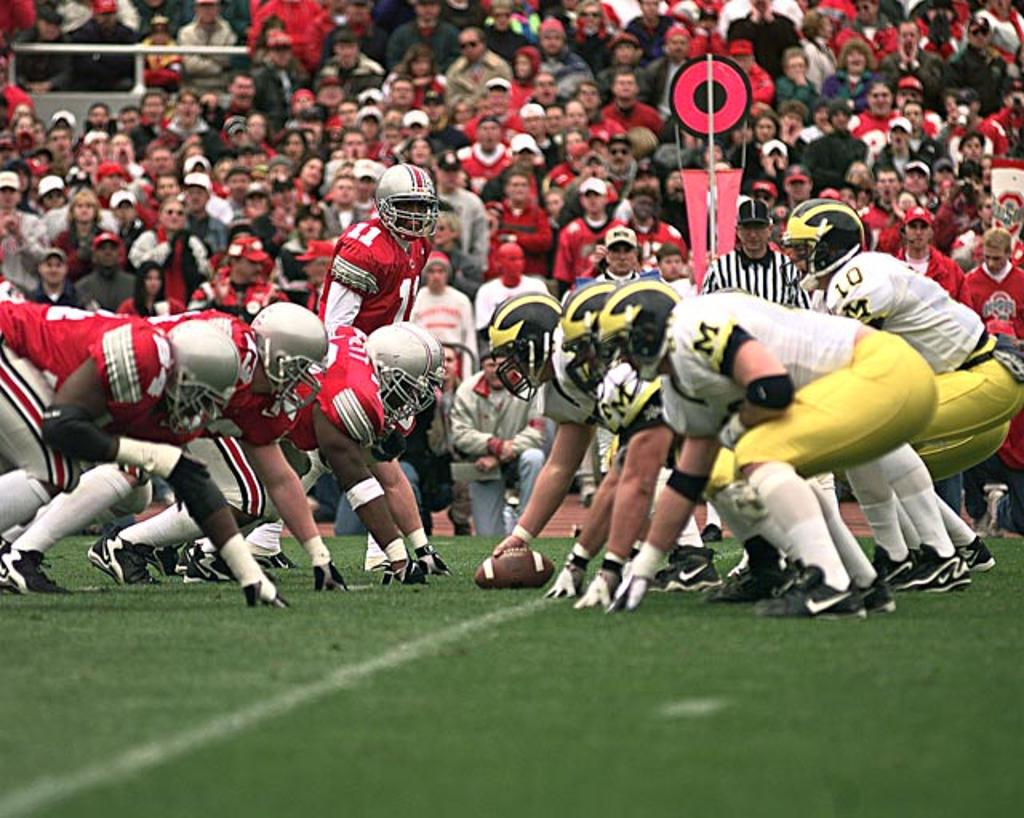face: (615, 334, 654, 381), (393, 198, 430, 240), (571, 333, 604, 380), (385, 368, 417, 413), (505, 348, 539, 387), (789, 233, 818, 273), (609, 245, 637, 277), (238, 251, 264, 284), (740, 218, 766, 250), (460, 34, 486, 64), (484, 358, 509, 389), (907, 216, 931, 247), (303, 255, 327, 284), (435, 349, 456, 381), (96, 241, 119, 269), (870, 85, 893, 113), (97, 244, 120, 272), (233, 78, 254, 107), (38, 18, 63, 42), (299, 212, 322, 238), (984, 247, 1006, 274), (480, 123, 502, 150), (898, 87, 922, 111), (632, 197, 656, 221), (846, 46, 867, 73), (320, 83, 343, 107), (43, 259, 65, 284), (187, 186, 208, 211), (164, 205, 185, 230), (766, 148, 786, 174), (302, 160, 322, 186), (145, 270, 164, 297), (788, 175, 810, 198), (181, 97, 199, 125), (580, 87, 601, 111), (756, 119, 777, 143), (428, 267, 448, 292), (158, 178, 178, 203), (426, 97, 446, 122), (906, 171, 926, 196), (247, 189, 267, 214), (113, 139, 133, 164), (878, 175, 898, 200), (536, 77, 554, 104), (517, 142, 535, 169), (410, 56, 432, 78), (662, 258, 684, 280), (616, 75, 636, 99), (346, 135, 366, 159), (338, 42, 358, 66), (971, 24, 991, 48), (523, 114, 543, 137), (393, 82, 412, 106), (668, 174, 687, 198), (636, 174, 660, 193), (33, 155, 52, 179), (590, 140, 609, 164), (611, 144, 629, 169), (784, 113, 802, 138), (753, 190, 774, 211), (153, 153, 173, 175), (45, 189, 65, 211), (274, 45, 294, 67), (616, 43, 636, 65), (349, 6, 369, 28), (505, 254, 524, 277), (411, 142, 430, 165), (295, 90, 314, 113), (228, 129, 247, 152), (901, 27, 919, 51), (336, 180, 354, 204), (286, 137, 304, 161), (547, 110, 565, 134), (304, 116, 322, 140), (51, 132, 68, 157), (485, 208, 502, 233), (976, 160, 993, 185), (568, 105, 585, 130), (584, 193, 603, 215), (418, 2, 440, 21), (16, 120, 34, 143), (543, 31, 561, 54), (511, 177, 528, 201), (582, 9, 599, 33), (76, 201, 95, 222), (116, 204, 135, 225), (704, 145, 723, 166), (275, 186, 294, 207), (231, 175, 249, 197), (964, 141, 982, 163), (383, 130, 401, 152), (230, 175, 248, 197), (249, 118, 266, 141), (906, 107, 923, 130), (948, 98, 965, 121), (491, 89, 508, 112), (434, 220, 449, 246), (982, 201, 998, 225), (91, 139, 109, 160), (339, 106, 357, 127), (92, 109, 110, 130), (272, 167, 290, 188), (958, 102, 976, 123), (145, 99, 162, 121), (545, 195, 562, 217), (891, 125, 908, 147), (840, 191, 856, 214), (12, 171, 28, 194), (410, 126, 429, 145), (670, 36, 688, 56), (97, 11, 115, 31), (733, 56, 751, 76), (79, 149, 95, 171), (833, 109, 849, 131), (219, 164, 235, 186), (813, 108, 831, 127), (251, 173, 270, 191), (585, 163, 602, 183), (200, 6, 220, 23), (442, 166, 459, 186), (852, 169, 869, 189), (338, 165, 354, 186), (517, 55, 531, 79), (494, 9, 510, 30), (1, 147, 17, 168), (363, 117, 378, 139), (643, 1, 661, 19), (455, 105, 472, 124), (857, 5, 874, 24), (936, 166, 953, 185), (358, 178, 374, 198), (103, 175, 121, 192), (254, 155, 270, 174), (2, 189, 17, 209), (241, 153, 257, 171), (790, 59, 804, 79), (567, 134, 583, 151), (122, 114, 137, 131), (2, 56, 10, 87), (821, 19, 834, 38), (702, 18, 716, 35), (153, 29, 168, 44)
